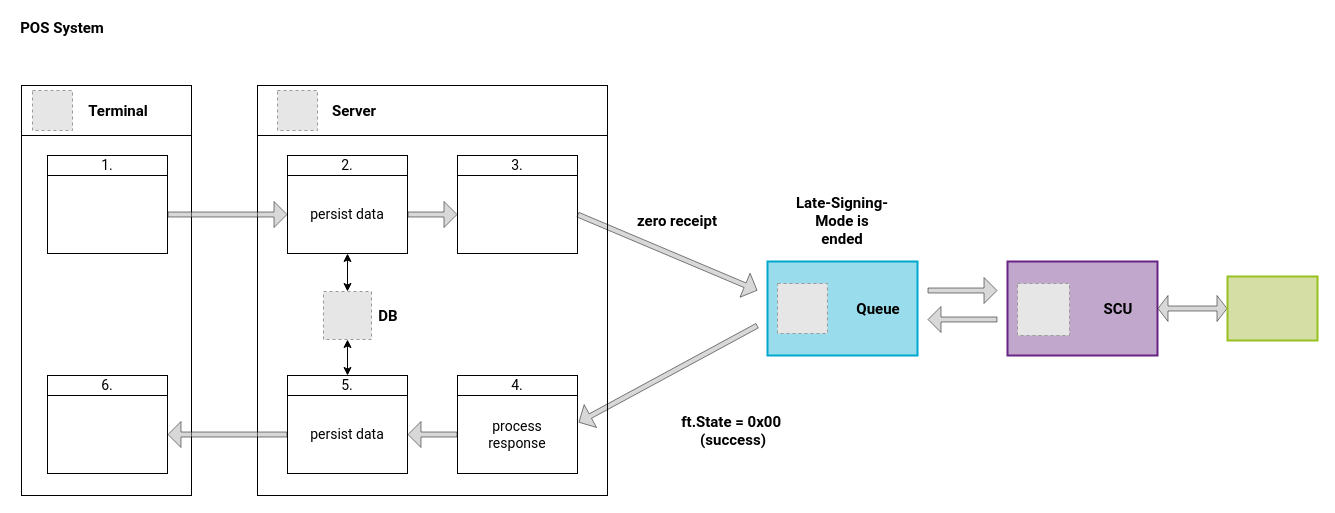
The diagram is 1335 pixels wide and 513 high, and some of its shapes have lost their labels. Grey dashed boxes stand in for pictures. The shapes that lost their labels are listed below. From the top down, each one's centre as x and y in pixels, then its label:
(x=107, y=214): trigger functionality (end post recording)
(x=517, y=214): send sign request (zero receipt)
(x=1272, y=308): TSE
(x=107, y=434): compose and print receipt
